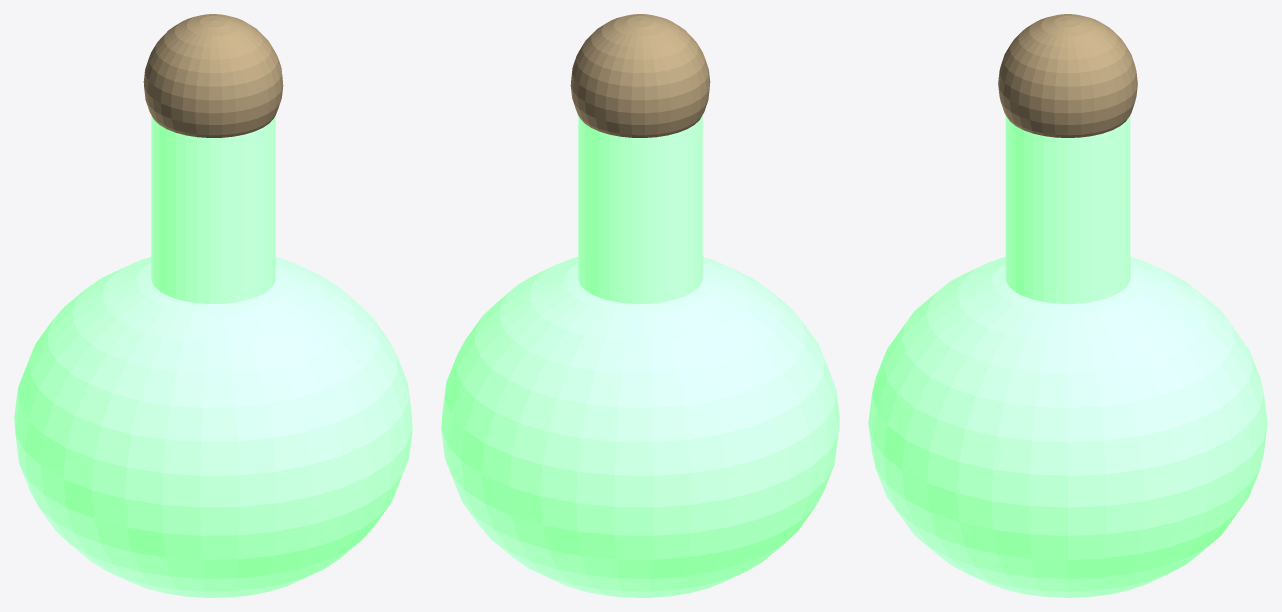
File: poison_bottle.glb
3 views of the same model, side by side, from view 1: azimuth 30°, elevation 25°; view 2: azimuth 150°, elevation 25°; view 3: azimuth 270°, elevation 25° (orthographic).
Visible parts, largest first — view 1: Body, Neck, Cork; view 2: Body, Neck, Cork; view 3: Body, Neck, Cork.
Part boxes in pixels (<box>): Body: <box>14,257,412,597</box>; Neck: <box>151,115,275,303</box>; Cork: <box>143,14,283,137</box>; Body: <box>441,257,839,597</box>; Neck: <box>578,115,702,303</box>; Cork: <box>570,14,710,137</box>; Body: <box>868,256,1267,597</box>; Neck: <box>1005,115,1130,303</box>; Cork: <box>998,14,1137,137</box>.
Size of the model in its own units: 0.16 by 0.246 by 0.16.
